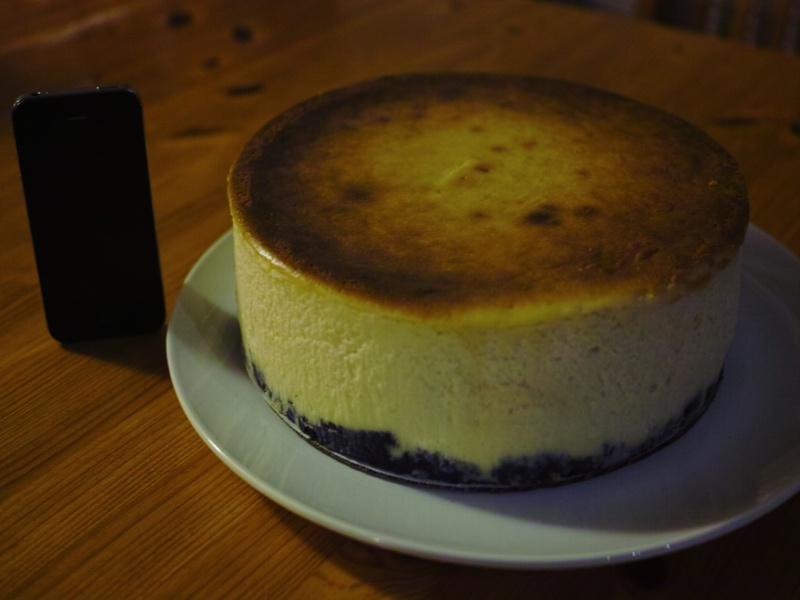cellphone: (12, 87, 177, 354)
